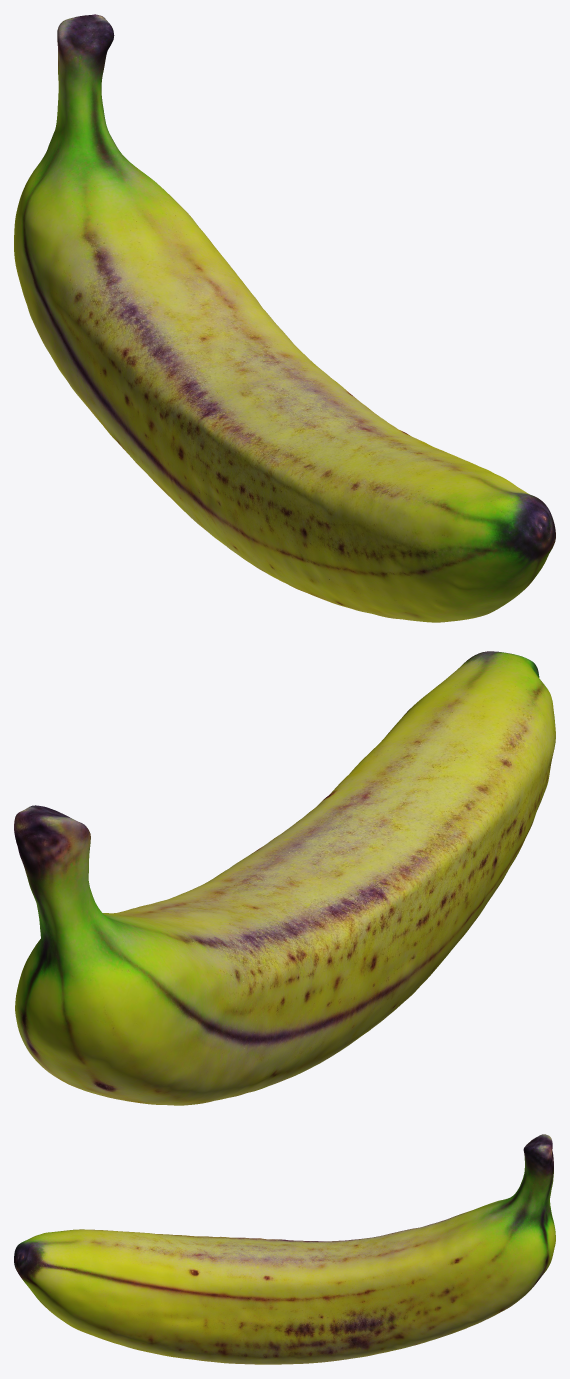
Rendered from banana.glb.
3 renders of one model, top to bottom at view 1: azimuth 30°, elevation 25°; view 2: azimuth 150°, elevation 25°; view 3: azimuth 270°, elevation 25°, orthographic. The views are drawn at different scales.
Parts seen in each view (by area): view 1: high_poly; view 2: high_poly; view 3: high_poly.
Part boxes in pixels (<box>): high_poly: <box>14,14,555,622</box>; high_poly: <box>14,651,555,1105</box>; high_poly: <box>14,1134,555,1364</box>.
Size of the model in its own units: 0.2203 by 0.4559 by 1.
1 material, 1 textured.
